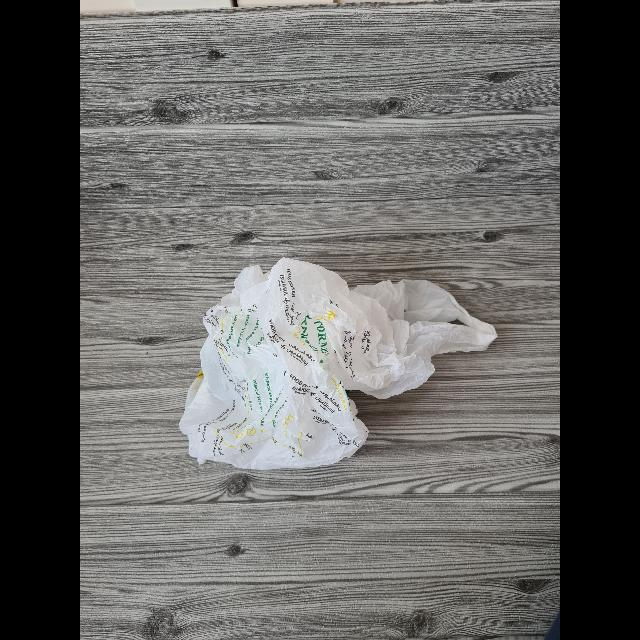plastic_bag: (165, 239, 513, 491)
